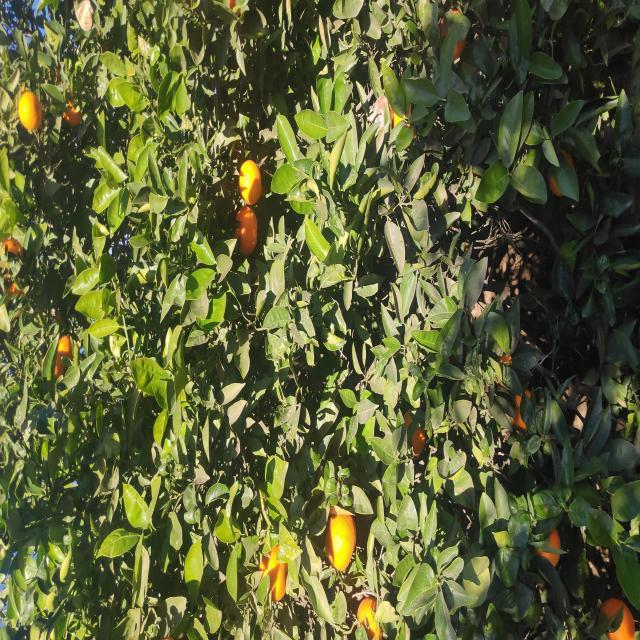Jeruk Sudah Matang: (70, 326, 126, 356), (0, 597, 41, 635), (40, 261, 98, 287), (183, 401, 231, 428), (0, 357, 41, 382), (387, 235, 434, 256), (438, 240, 480, 262), (510, 19, 550, 41), (264, 50, 308, 70), (74, 539, 113, 560), (210, 513, 250, 530), (367, 2, 401, 20), (444, 548, 466, 560)
